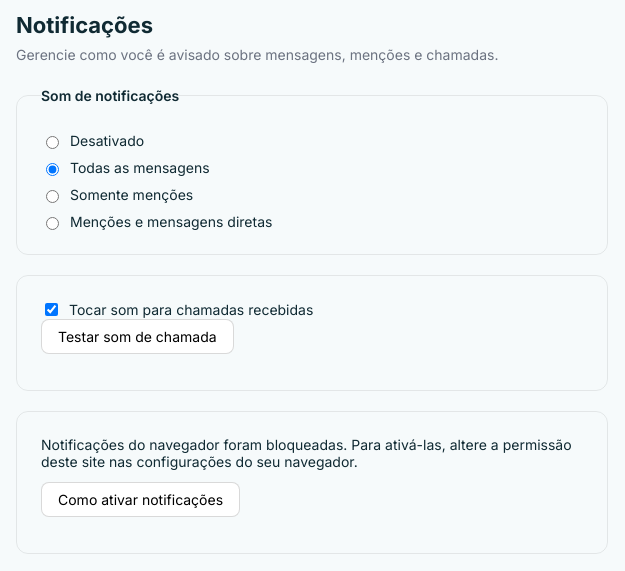
Test case: NotificationsSettingsPage — sound notification mode › is reachable and selectable via each option's associated label
The width and height of the screenshot is (625, 571).
Click the text "Somente menções" at (120, 194), box [46,186,193,203]
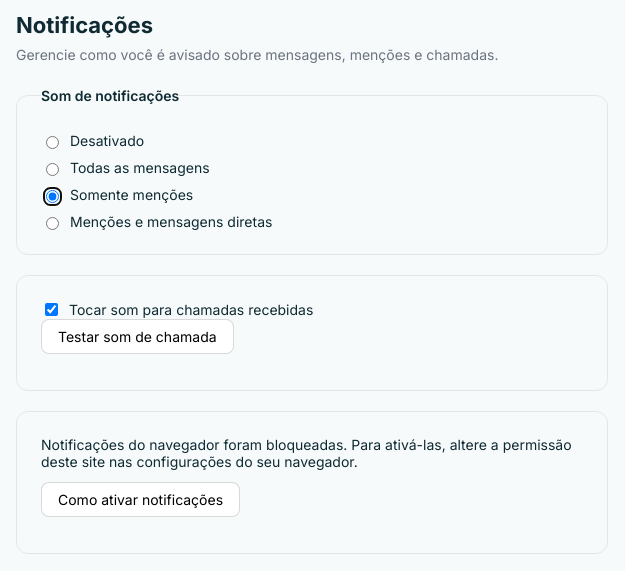
Check: the radio button labelled "Somente menções" is checked, box [46,190,59,202]
Check: the radio button labelled "Todas as mensagens" is not checked, box [46,162,59,176]
